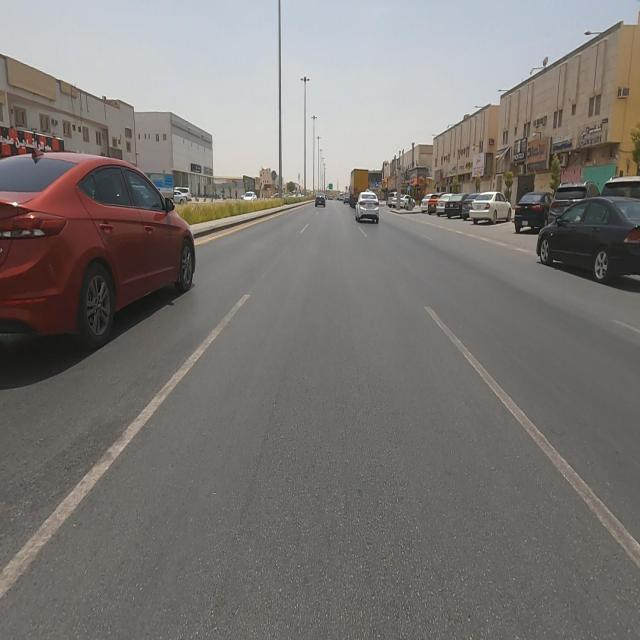debris: (479, 120, 524, 200)
